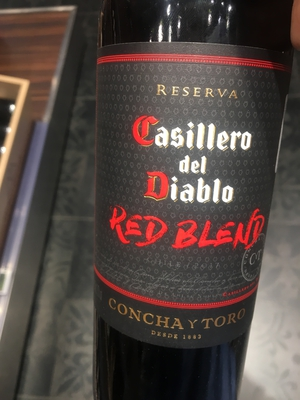casillero del diablo red blend: (90, 19, 290, 400)
